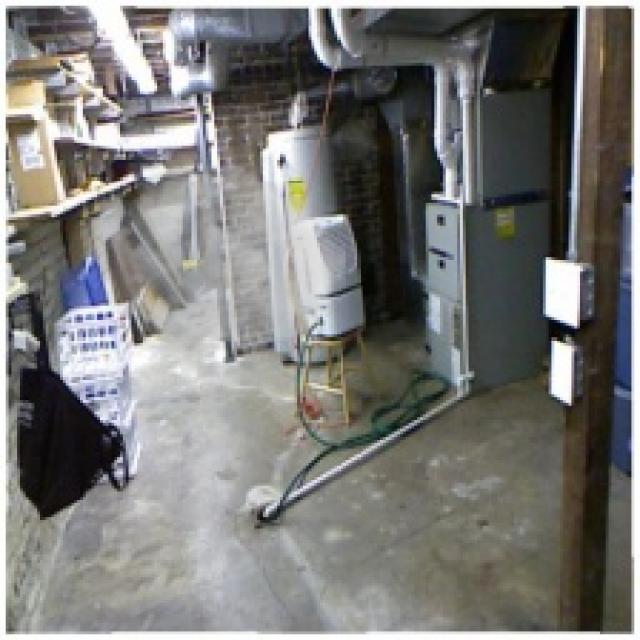smoke: (100, 151, 346, 366)
